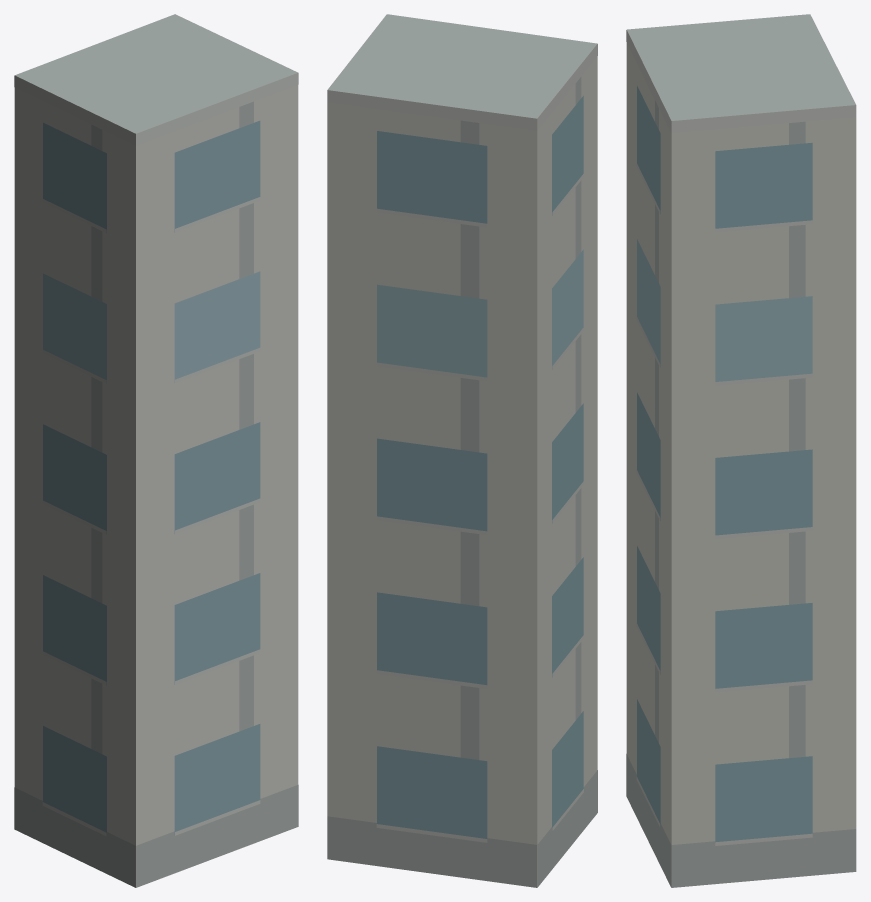
File: survey-upis-32642886.glb
The picture shows the model from 3 angles, left to right: view 1: azimuth 30°, elevation 25°; view 2: azimuth 150°, elevation 25°; view 3: azimuth 270°, elevation 25°; orthographic projection. The views are drawn at different scales.
Parts seen in each view (by area): view 1: survey-upis-32642886.tmp; view 2: survey-upis-32642886.tmp; view 3: survey-upis-32642886.tmp.
Boxes of the visible parts, <box> form: survey-upis-32642886.tmp: <box>14,14,298,887</box>; survey-upis-32642886.tmp: <box>327,14,597,887</box>; survey-upis-32642886.tmp: <box>626,14,856,887</box>.
Bounding box in the file's own units: 4.57 × 15.25 × 4.15.
